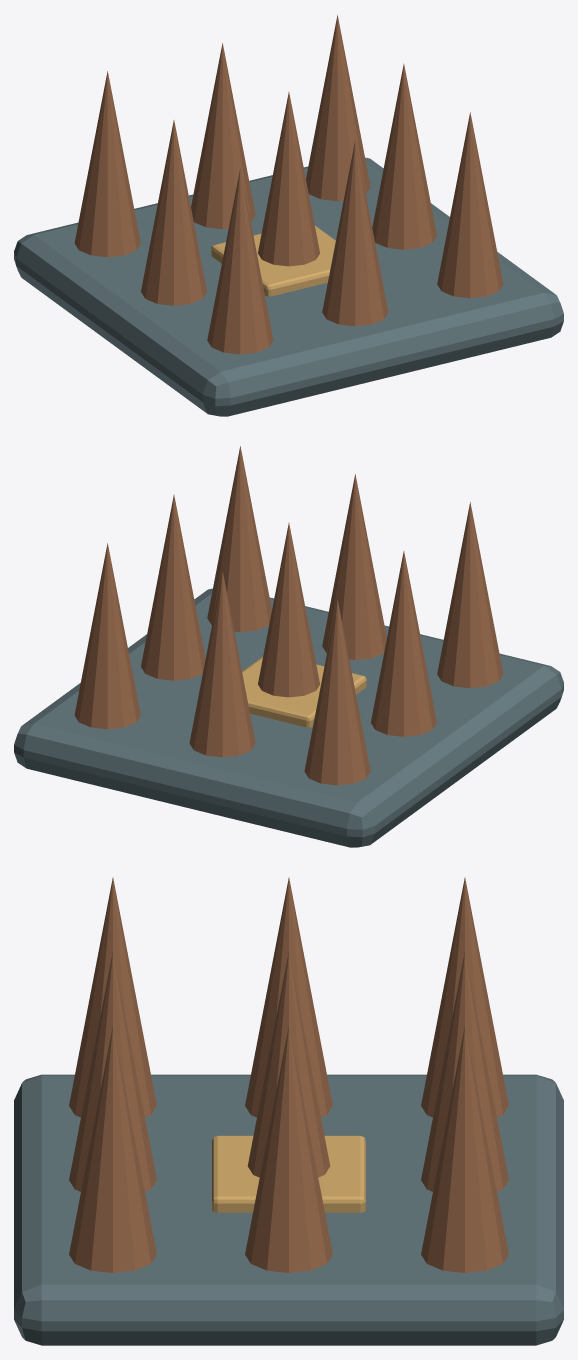
Rendered from trap.glb.
The picture shows the model from 3 angles, top to bottom: view 1: azimuth 30°, elevation 25°; view 2: azimuth 150°, elevation 25°; view 3: azimuth 270°, elevation 25°; orthographic projection. The views are drawn at different scales.
Visible parts, largest first — view 1: Trap plate, Trap spike.003, Trap spike.001, Trap spike.002, Trap spike.006, Trap spike, Trap spike.007, Trap spike.005, Trap spike.008, Trap spike.004, Trigger pad; view 2: Trap plate, Trap spike.005, Trap spike, Trap spike.001, Trap spike.008, Trap spike.002, Trap spike.007, Trap spike.003, Trap spike.006, Trap spike.004, Trigger pad; view 3: Trap plate, Trap spike.006, Trap spike.007, Trap spike.008, Trigger pad, Trap spike, Trap spike.001, Trap spike.002, Trap spike.003, Trap spike.005, Trap spike.004.
Boxes of the visible parts, x1,y1,x2,y2 form: Trap plate: (14,157,563,416); Trap spike.003: (322,140,388,326); Trap spike.001: (141,120,206,305); Trap spike.002: (74,71,140,257); Trap spike.006: (437,112,503,298); Trap spike: (207,168,273,354); Trap spike.007: (372,63,436,249); Trap spike.005: (191,43,255,229); Trap spike.008: (306,15,370,201); Trap spike.004: (258,92,319,266); Trigger pad: (211,225,335,296); Trap plate: (14,588,563,847); Trap spike.005: (189,571,255,757); Trap spike: (437,502,503,688); Trap spike.001: (371,551,436,736); Trap spike.008: (74,543,140,729); Trap spike.002: (304,599,370,785); Trap spike.007: (141,494,205,680); Trap spike.003: (322,474,386,660); Trap spike.006: (207,446,271,632); Trap spike.004: (258,523,319,697); Trigger pad: (242,656,366,727); Trap plate: (14,1074,563,1345); Trap spike.006: (69,1026,156,1272); Trap spike.007: (245,1026,332,1272); Trap spike.008: (421,1026,508,1272); Trigger pad: (212,1135,365,1212); Trap spike: (69,877,156,1117); Trap spike.001: (245,877,332,1117); Trap spike.002: (421,877,508,1117); Trap spike.003: (69,952,156,1191); Trap spike.005: (421,952,508,1191); Trap spike.004: (247,952,330,1177).
Bounding box in the file's own units: 0.5 × 0.29 × 0.5.
